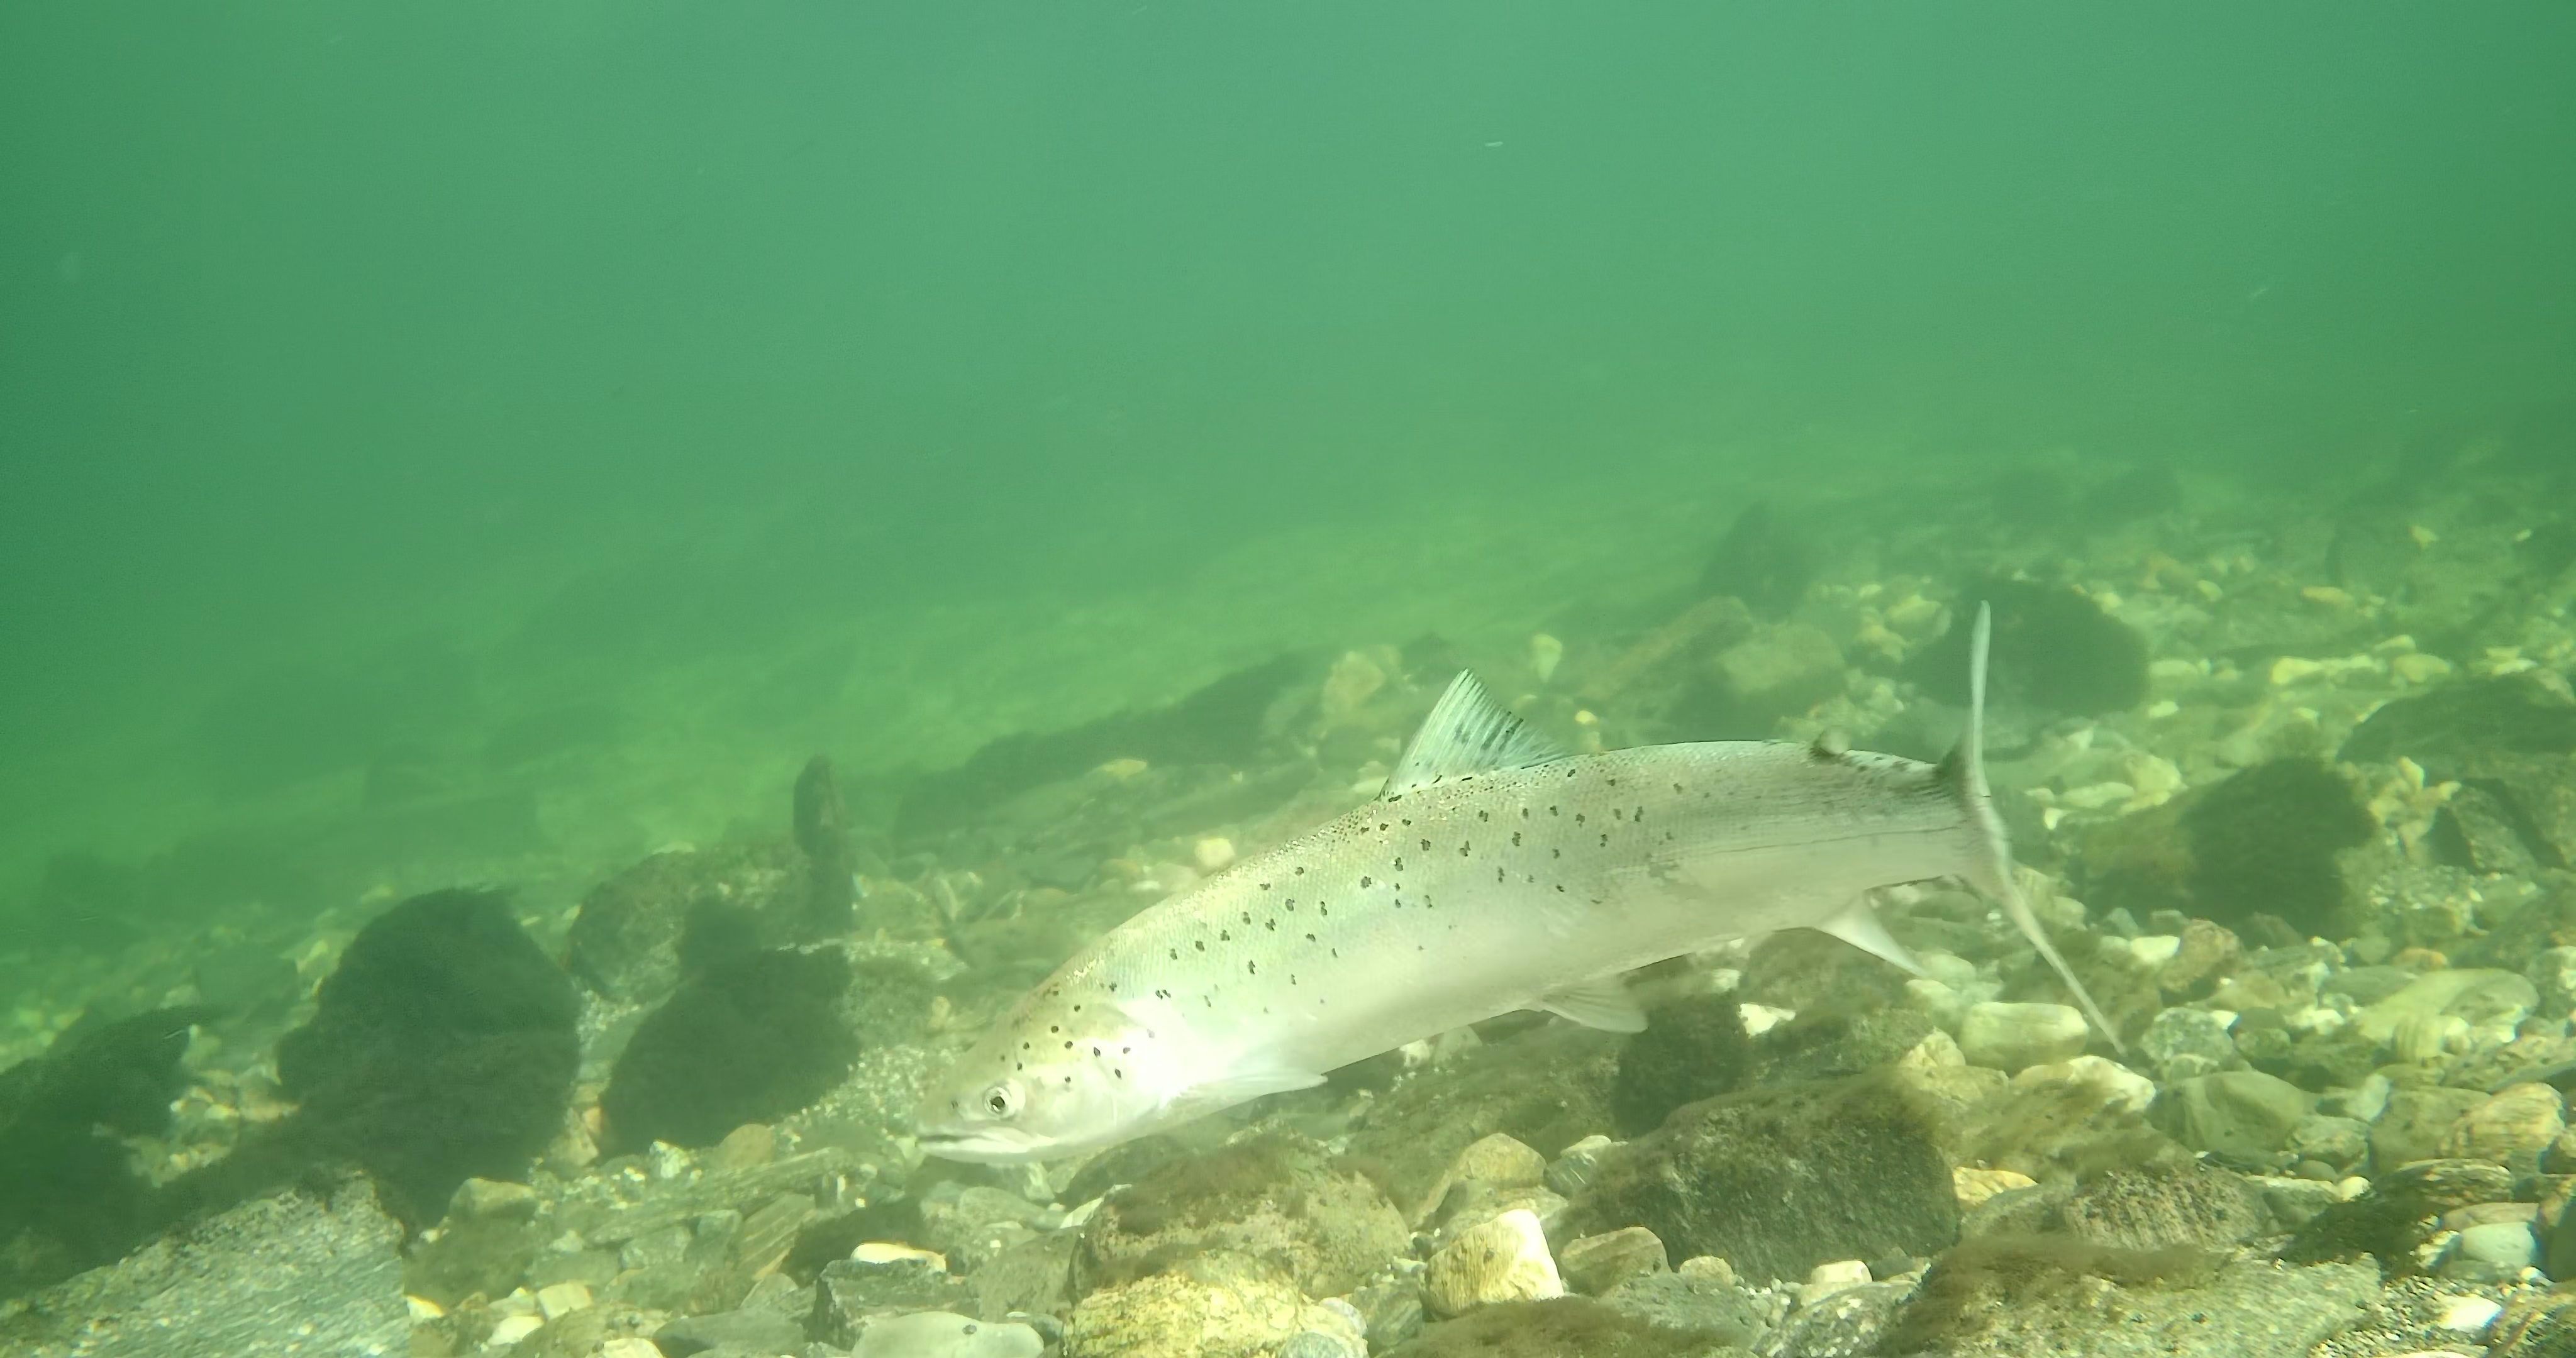salmon: (908, 598, 2130, 1171)
